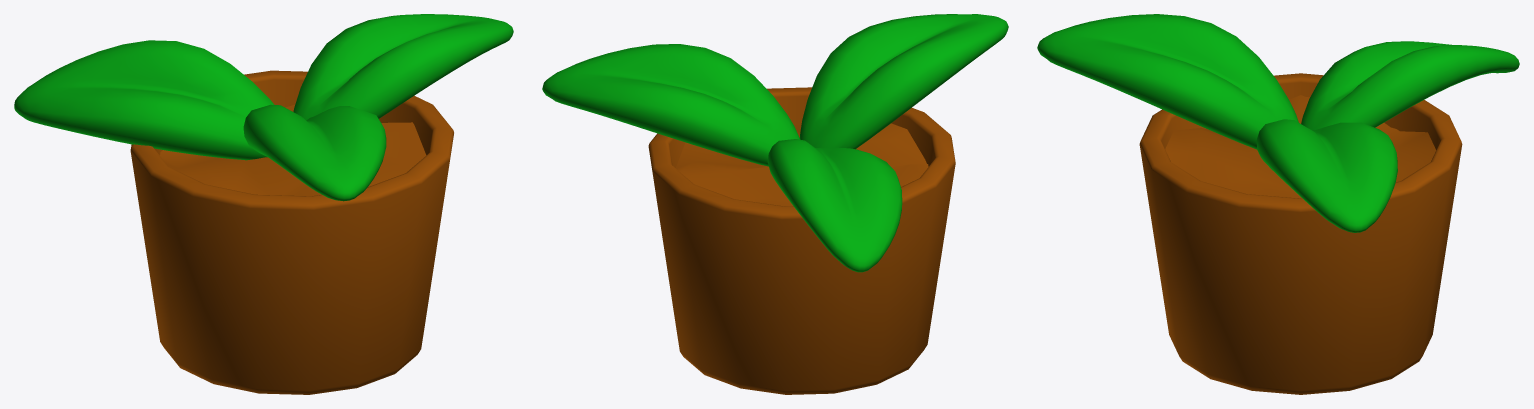
Rendered from Flower.fbx.
3 renders of one model, left to right at view 1: azimuth 30°, elevation 25°; view 2: azimuth 150°, elevation 25°; view 3: azimuth 270°, elevation 25°, orthographic. The views are drawn at different scales.
Visible parts, largest first — view 1: Cylinder.001; view 2: Cylinder.001; view 3: Cylinder.001.
Part boxes in pixels (<box>): Cylinder.001: <box>14,14,513,394</box>; Cylinder.001: <box>542,14,1008,394</box>; Cylinder.001: <box>1037,14,1519,394</box>.
Bounding box in the file's own units: 155 × 103 × 156.
